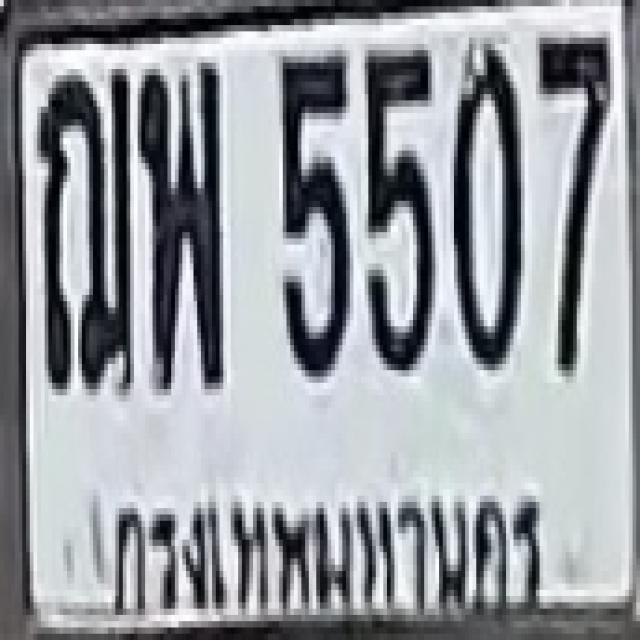-: (35, 66, 132, 392), (136, 59, 221, 386)
0: (448, 41, 519, 367)
5: (364, 44, 432, 370), (279, 47, 346, 373)
7: (536, 32, 606, 370), (536, 31, 606, 276), (536, 31, 606, 245)
BKK: (97, 455, 558, 640)
